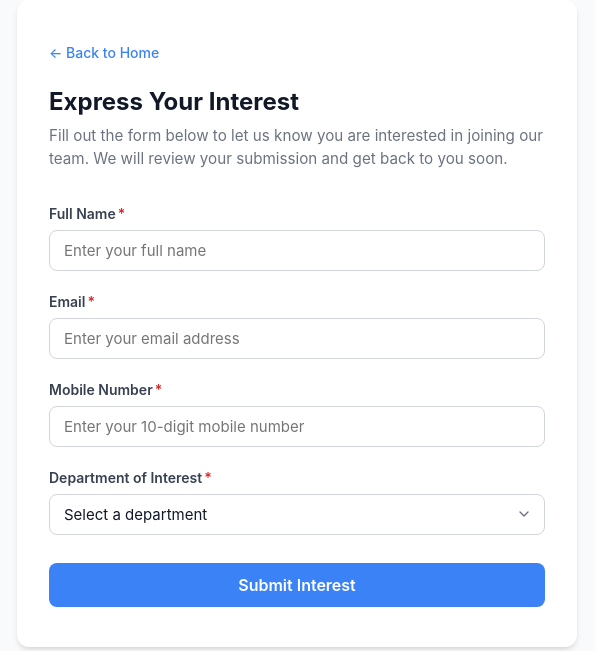
it: InterestForm › field validation error display › shows validation errors when submitting empty form
This screenshot has width=595, height=651.
What coordinates should you click on to do the following:
click the button "Submit Interest"
I would click on:
 (297, 585)
Its box is [49,563,545,607].
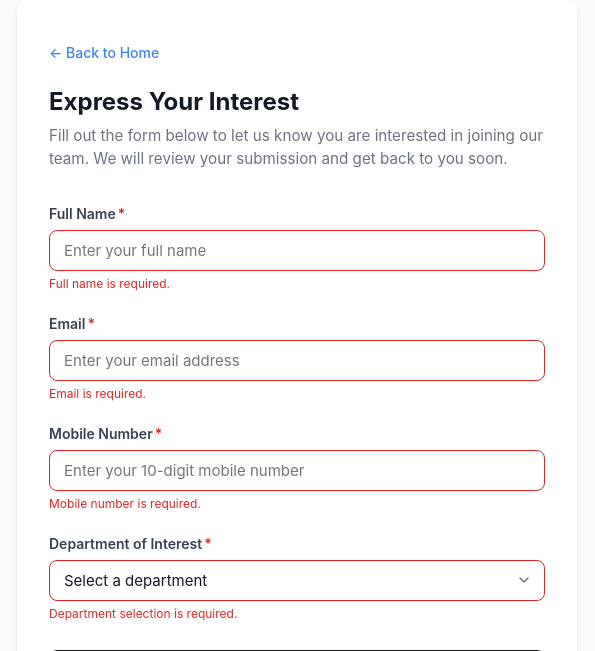
expect the text "Full name is required." is shown: met, box [49,276,170,291]
expect the text "Email is required." is shown: met, box [49,386,146,401]
expect the text "Mobile number is required." is shown: met, box [49,496,201,511]
